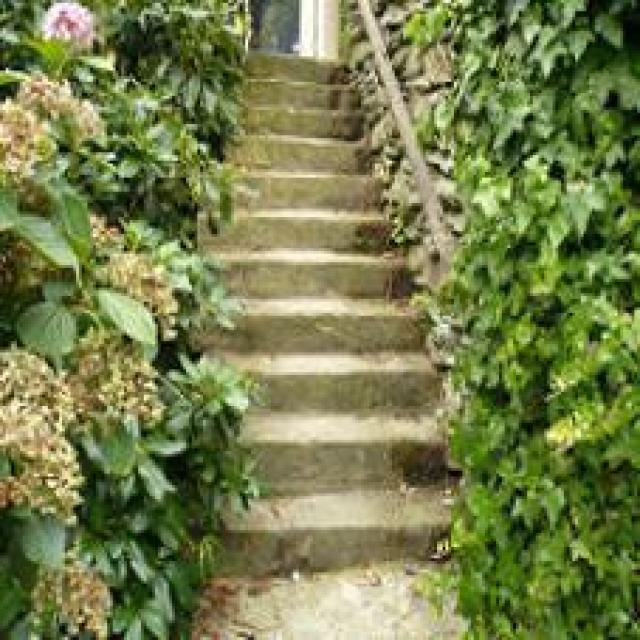upstair: (198, 204, 475, 542)
